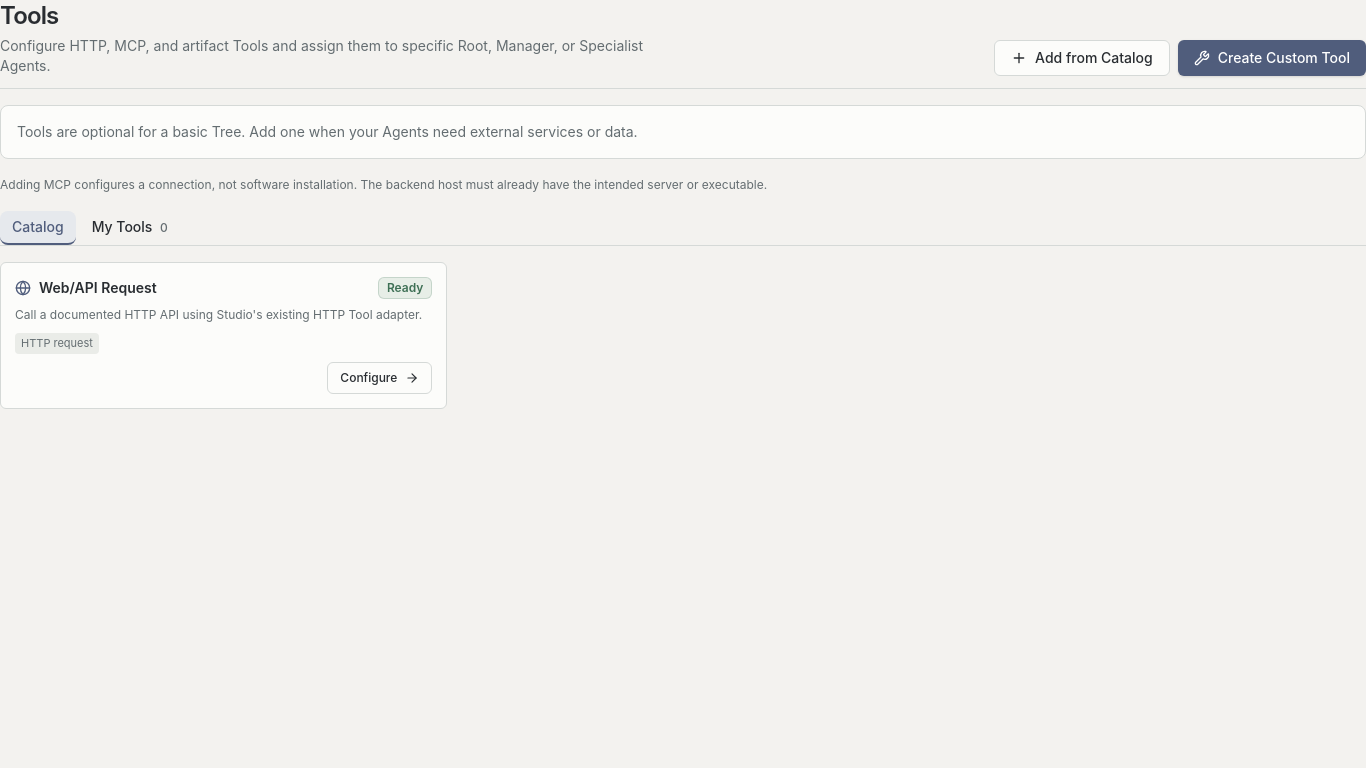
Test: Tool Catalog setup › requires a successful preflight test before creating the existing ToolConnection
This screenshot has width=1366, height=768.
Click the button "Configure": [380, 378] box [327,362,432,394]
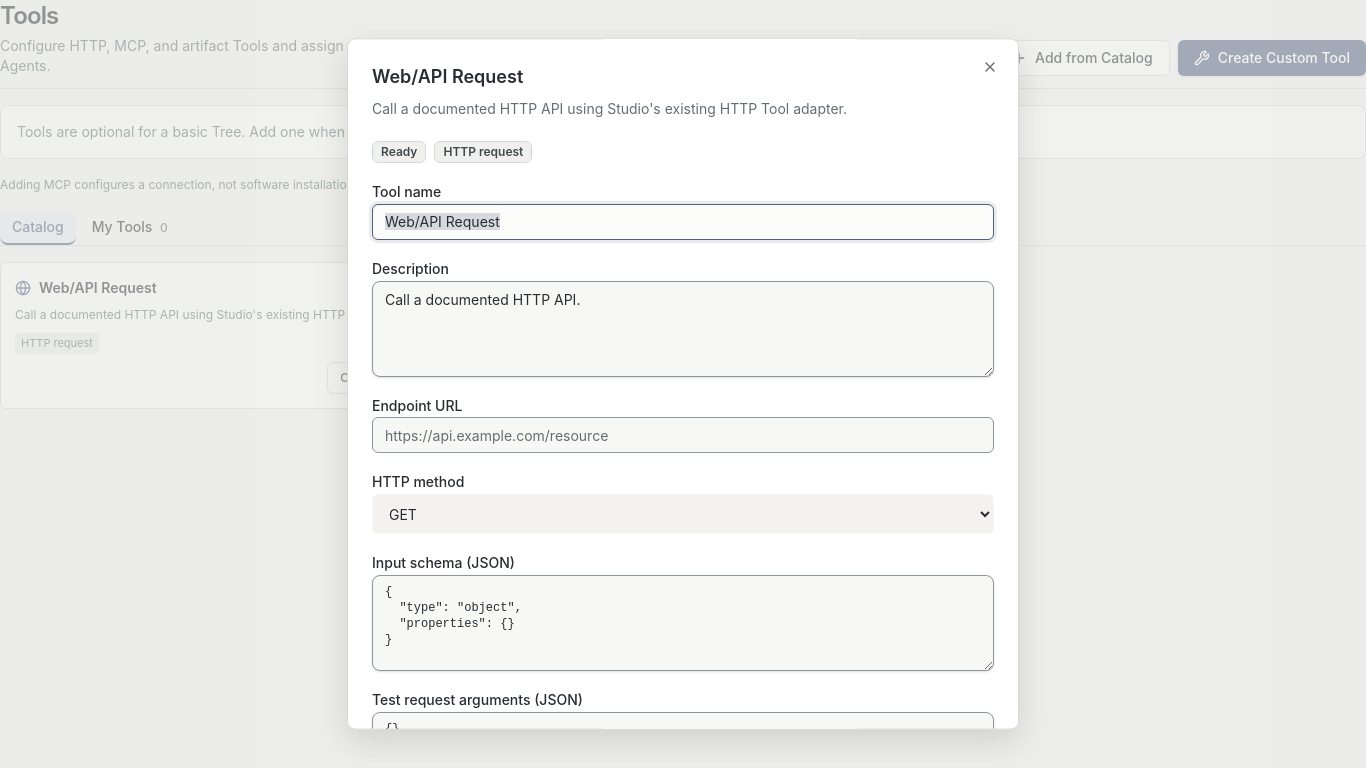
In the field labelled "Endpoint URL": [683, 436] box [372,418,994,454], type "https://api.example.test/health"
(page scrolled)
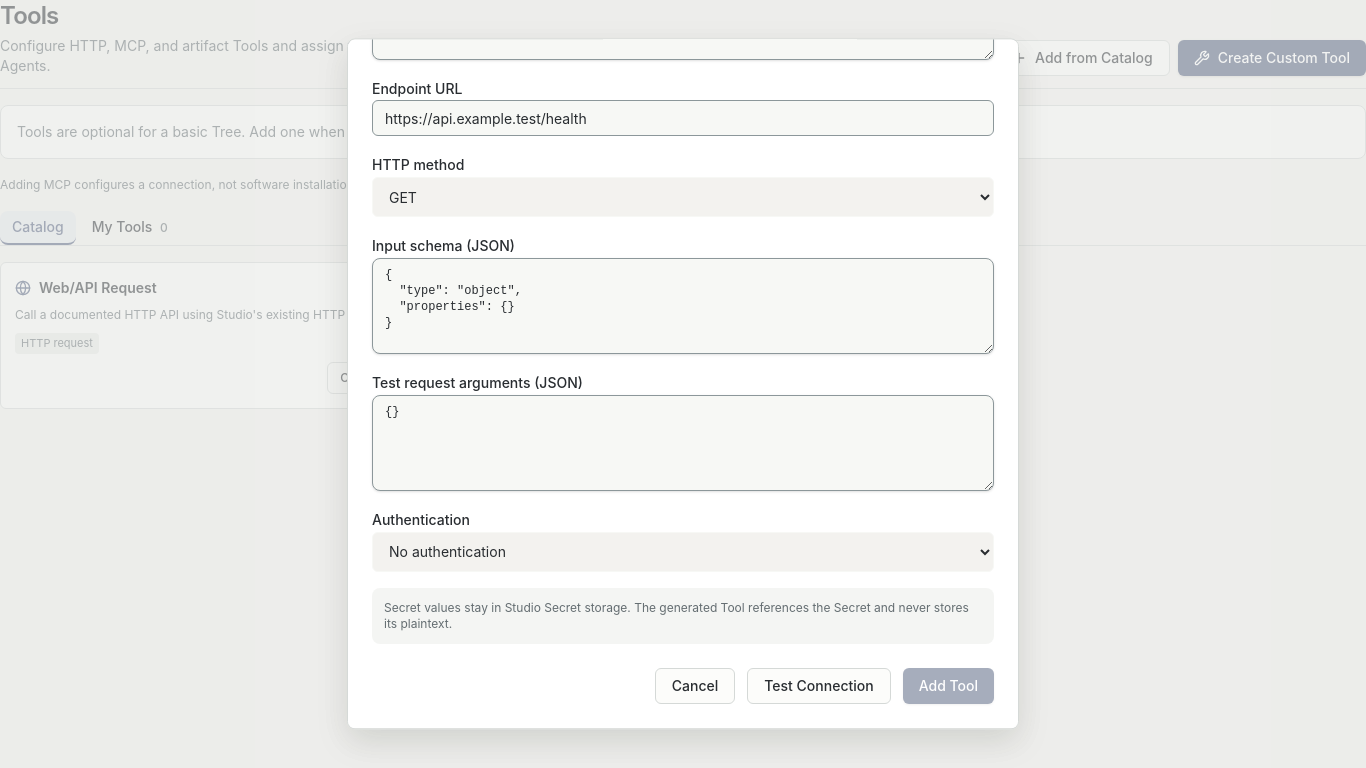
Expected: the button "Add Tool" is disabled, [903,668,994,704]
Click the button "Test Connection": [819, 686] box [747,668,891,704]
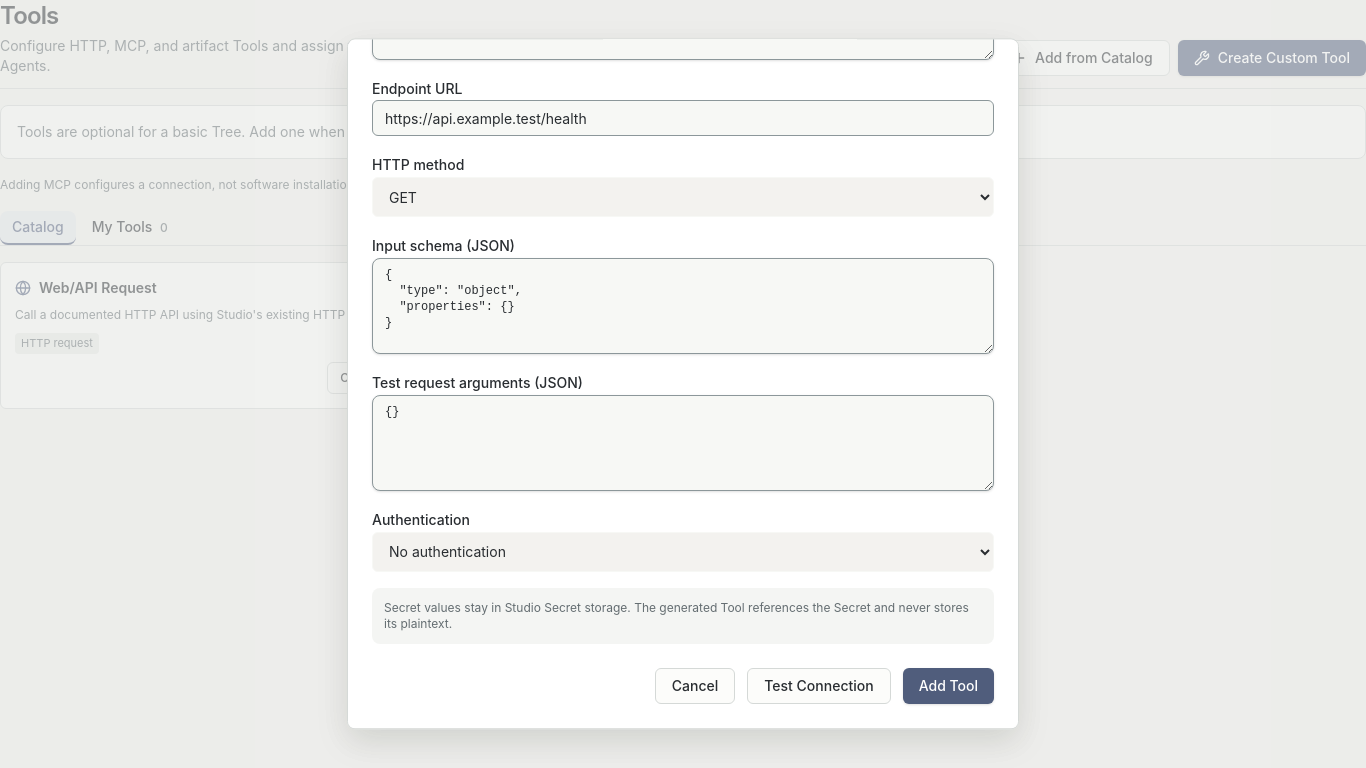
Click the button "Add Tool": [948, 686] box [903,668,994,704]
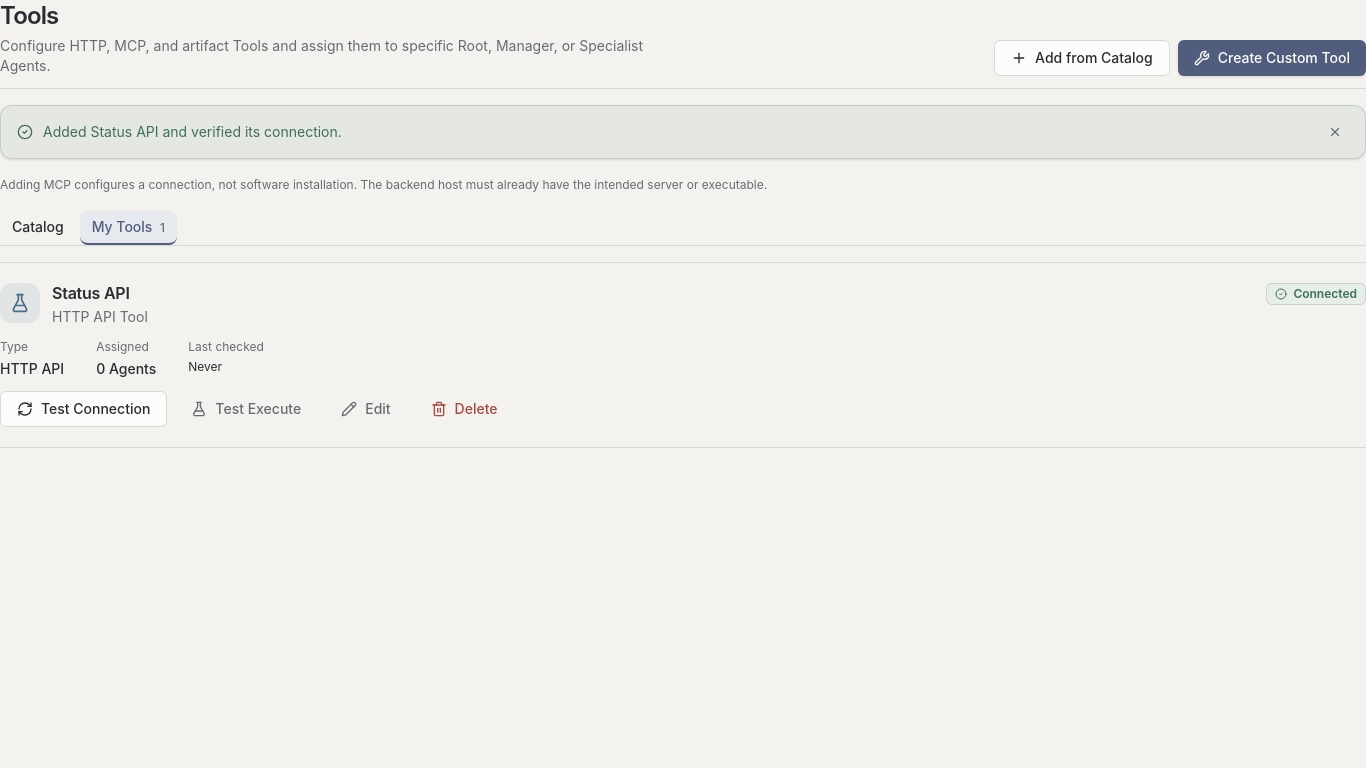
Expected: the heading "Status API" is shown, [52,283,130,303]
